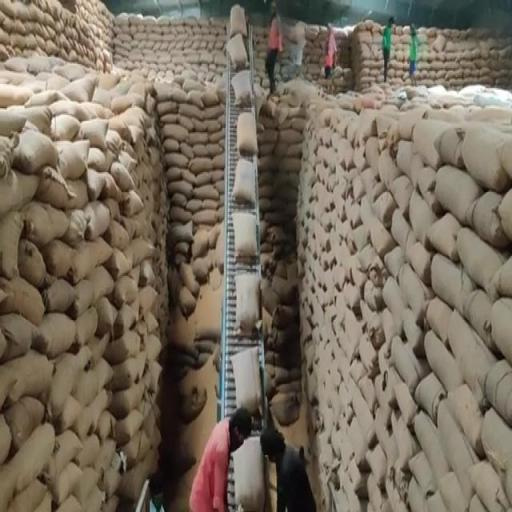c-belt-sack-count: (234, 438, 265, 511), (231, 349, 262, 414), (235, 273, 260, 334), (232, 158, 254, 205), (233, 212, 254, 257), (238, 112, 257, 155), (231, 70, 253, 105), (227, 34, 247, 70), (230, 4, 246, 38)
